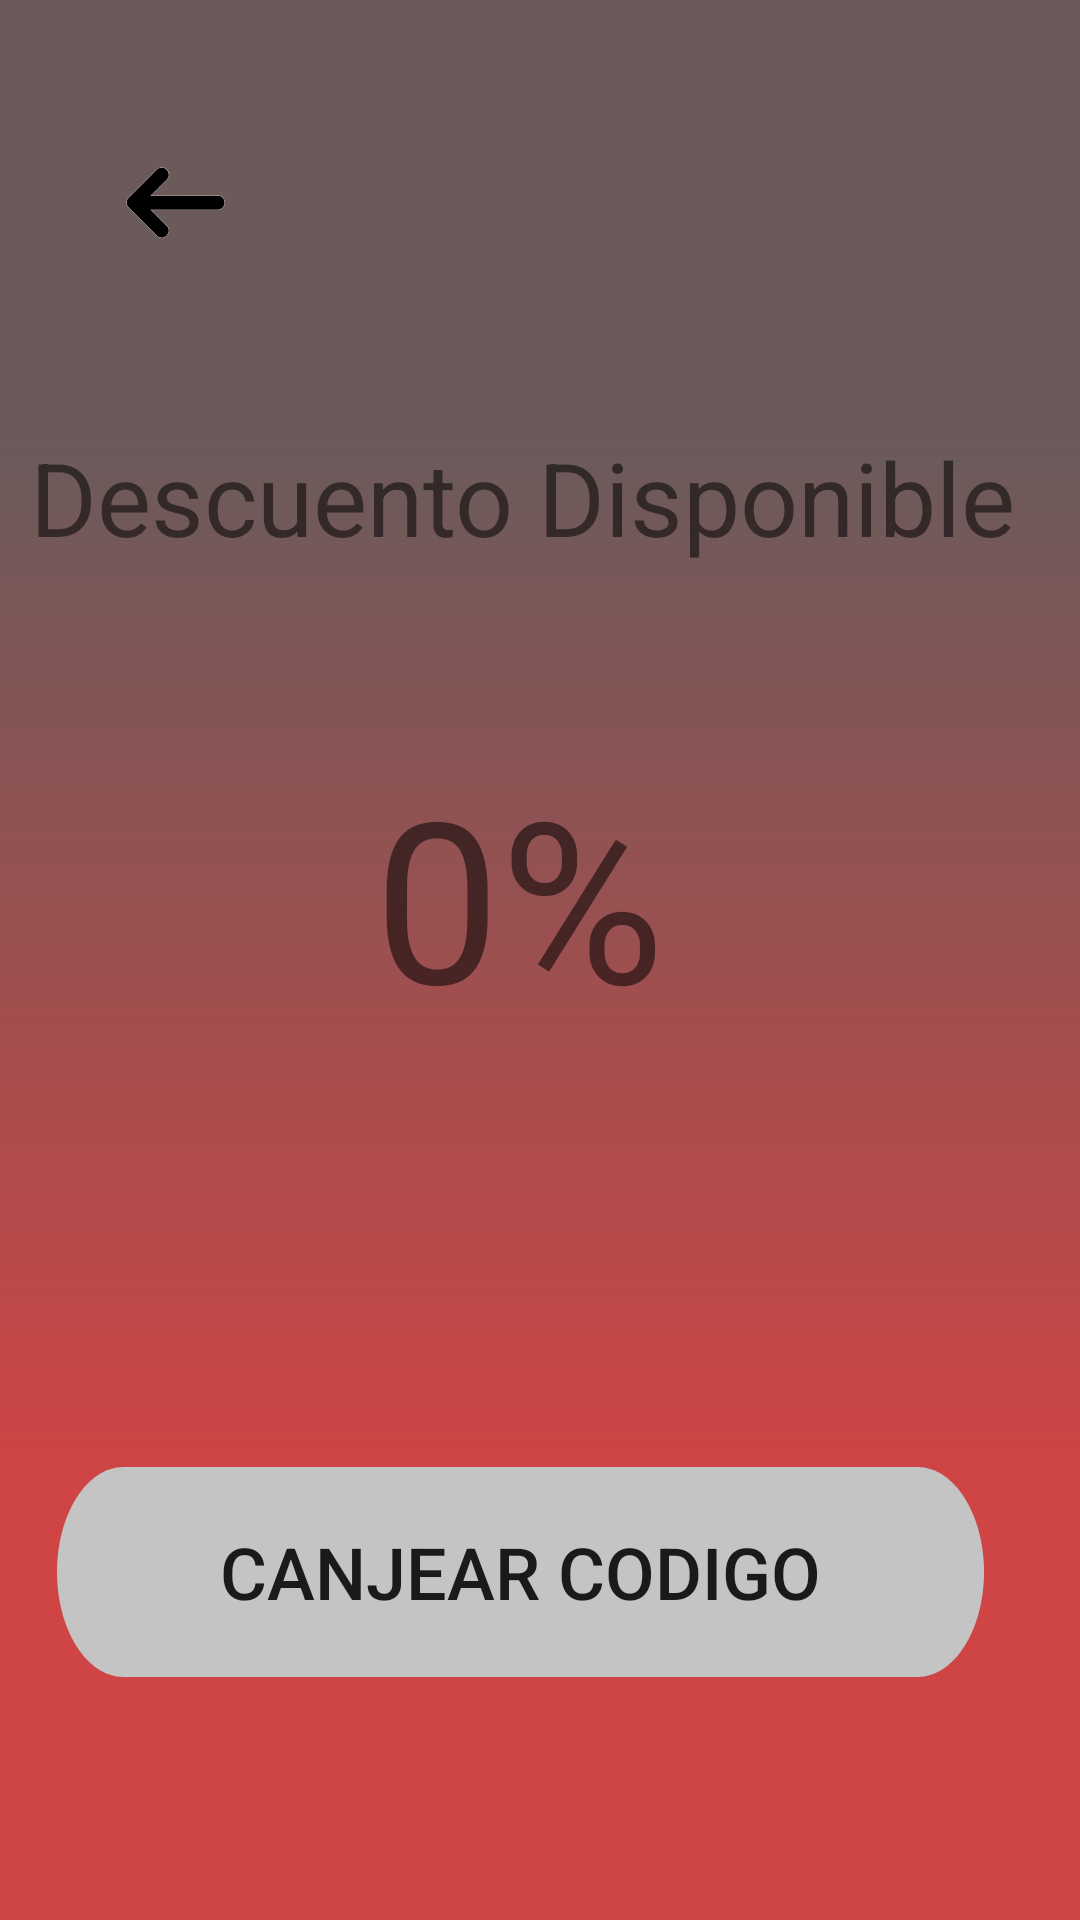

Icons on this 1080 x 1920 Android screen, each with its box as (x1=x1, y1=y1, x2=x2, y2=y2):
atras: (x1=126, y1=167, x2=225, y2=238)
